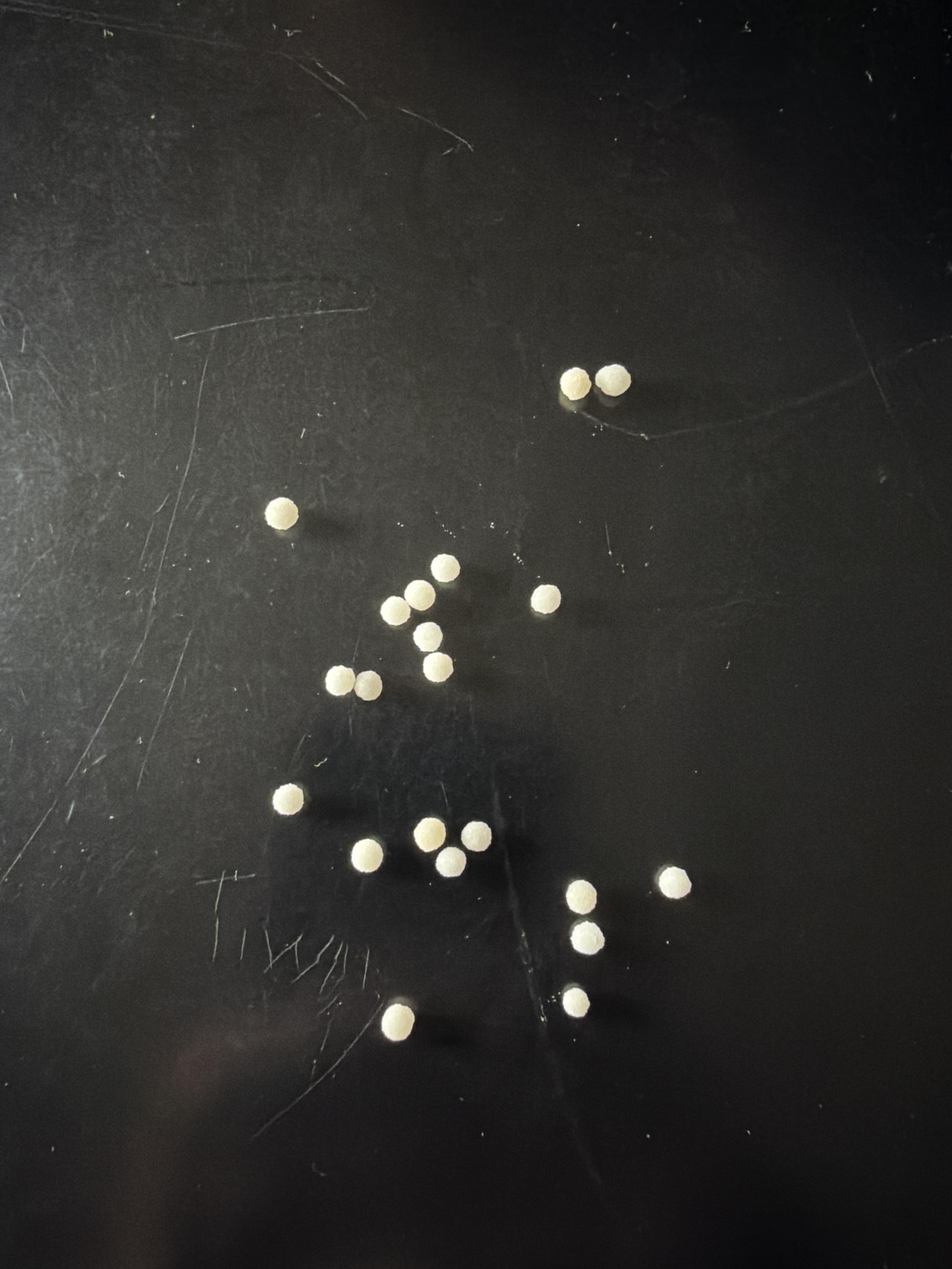pill: (381, 1003, 415, 1042), (595, 364, 632, 397), (570, 921, 605, 955), (350, 838, 383, 873), (565, 879, 597, 915), (264, 497, 298, 530), (657, 866, 691, 899), (413, 817, 445, 852), (559, 367, 591, 401), (272, 783, 304, 815), (435, 846, 466, 878), (404, 579, 435, 611), (422, 652, 453, 683), (461, 821, 492, 852), (530, 584, 561, 615), (325, 665, 355, 696), (561, 986, 590, 1018), (430, 554, 460, 584), (413, 622, 442, 653), (380, 597, 410, 626), (354, 670, 382, 701)
